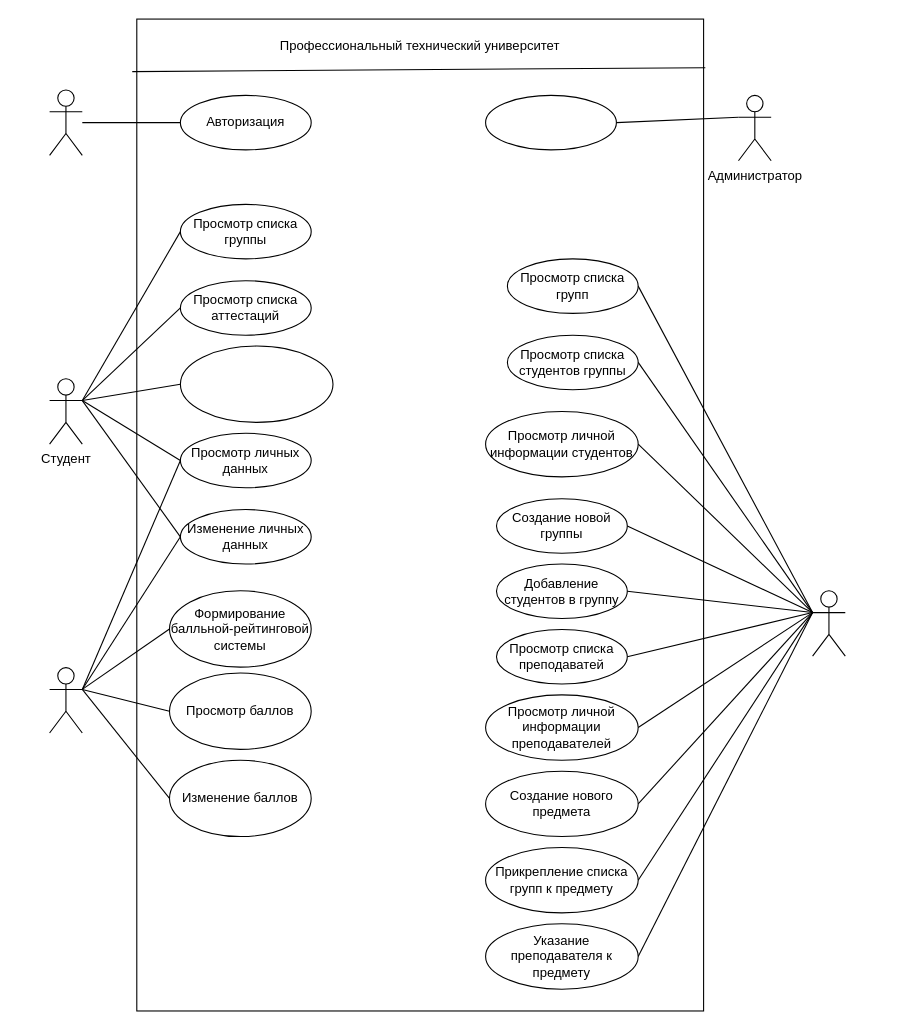
The diagram is 909 pixels wide and 1030 high, and some of its shapes have lost their labels. Each missing label, with the box of its shape:
Гость: (49, 89, 82, 155)
Преподаватель: (49, 667, 82, 733)
Просмотр балльной-рейтинговой системы: (179, 345, 333, 422)
Создание нового пользователя: (485, 94, 616, 150)
Сотрудник дирекции: (812, 590, 845, 656)
